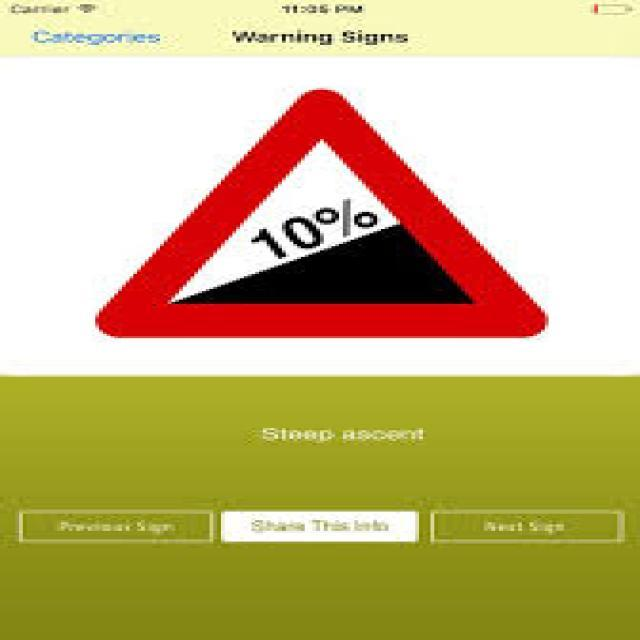steep ascent: (91, 83, 556, 348)
